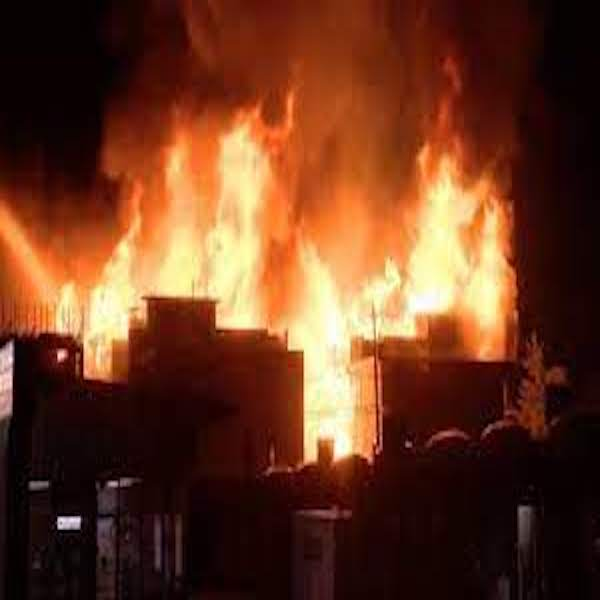fire: (102, 130, 515, 299), (305, 307, 374, 456), (18, 244, 99, 334), (447, 300, 512, 358), (221, 302, 287, 332)
